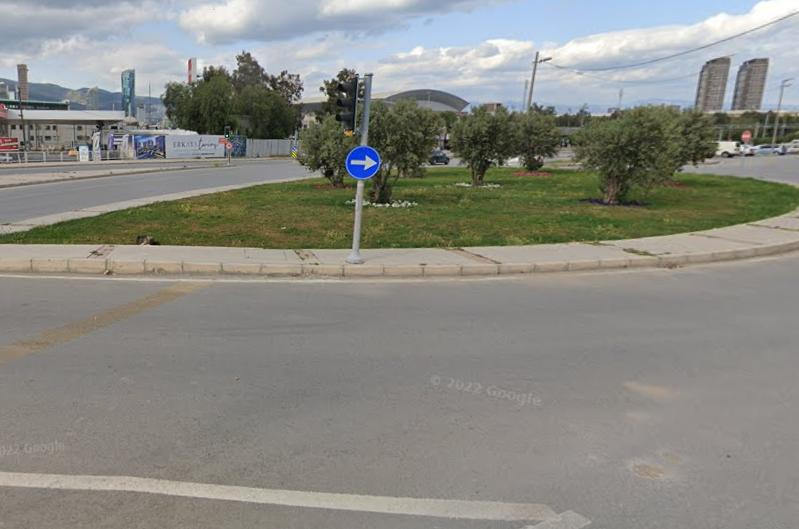turnleft: (346, 144, 379, 177)
